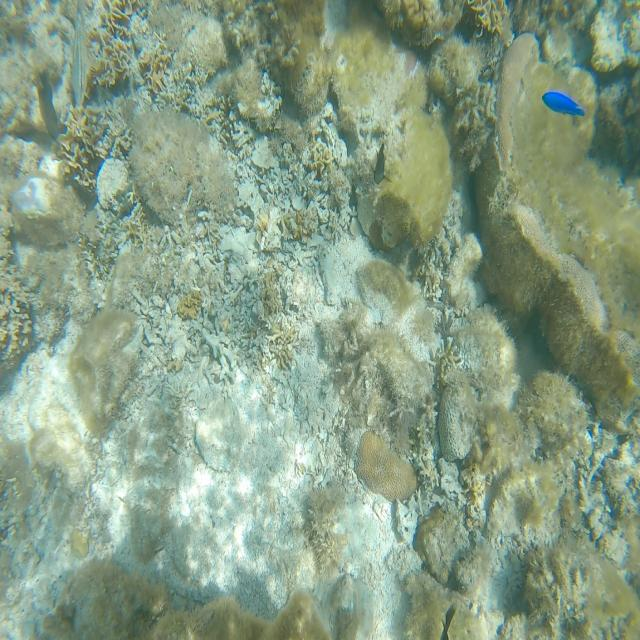kurohagi: (36, 71, 59, 140), (440, 605, 455, 639), (375, 145, 384, 182)
rurisuzumedai: (542, 91, 585, 115)
